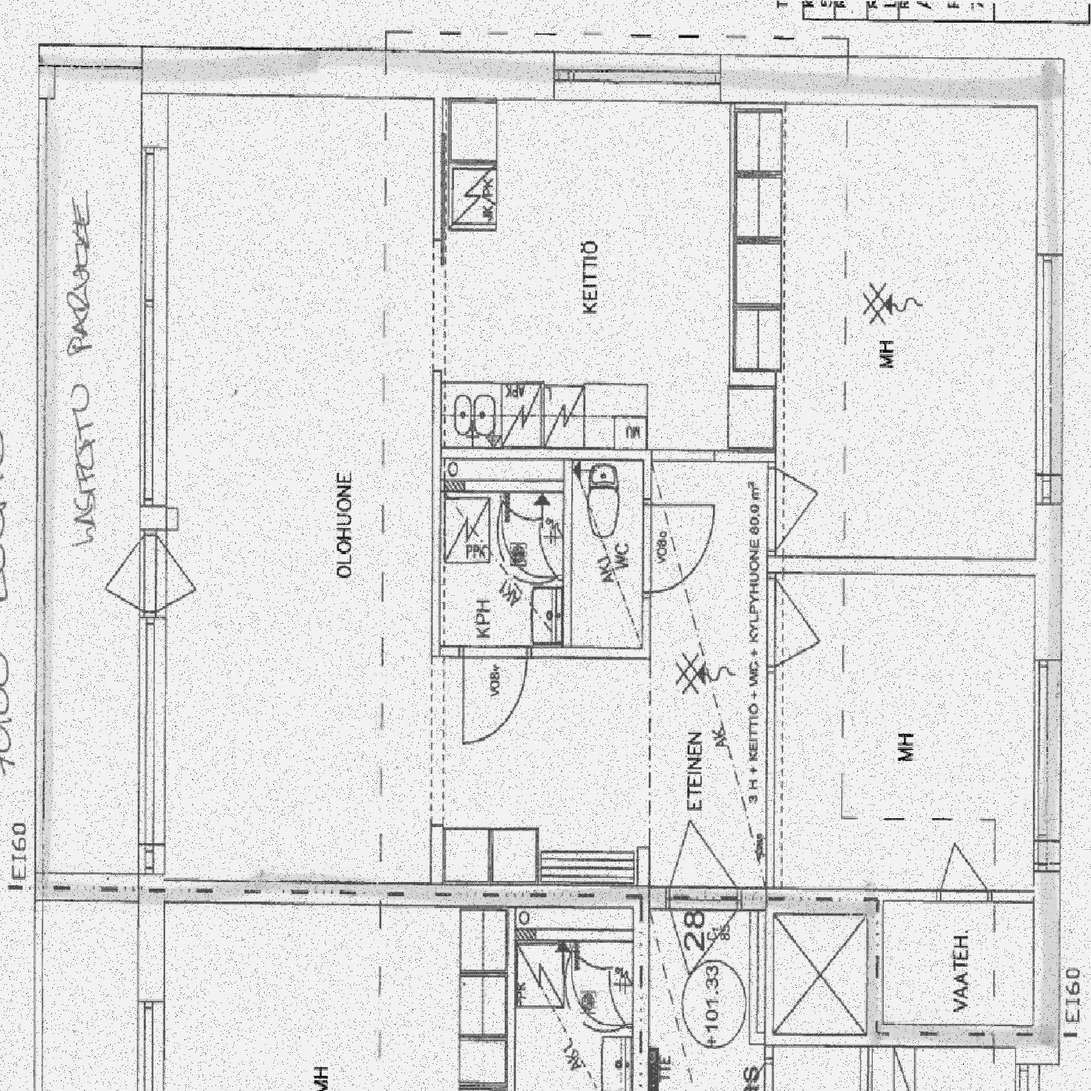wall: (139, 58, 1062, 102), (1036, 58, 1062, 1047), (138, 58, 164, 911), (138, 889, 882, 911), (39, 107, 47, 910), (866, 1023, 1062, 1047), (766, 559, 1062, 573), (441, 461, 564, 492), (433, 450, 774, 461), (766, 450, 774, 911), (433, 58, 441, 460), (39, 884, 138, 911), (433, 646, 651, 657), (867, 889, 882, 1047), (882, 889, 1062, 902), (39, 58, 138, 80), (642, 450, 650, 657), (564, 450, 572, 657), (729, 58, 734, 387), (433, 461, 441, 657), (138, 509, 177, 529), (39, 57, 54, 107), (729, 371, 774, 387), (433, 826, 443, 889), (637, 847, 650, 889)
